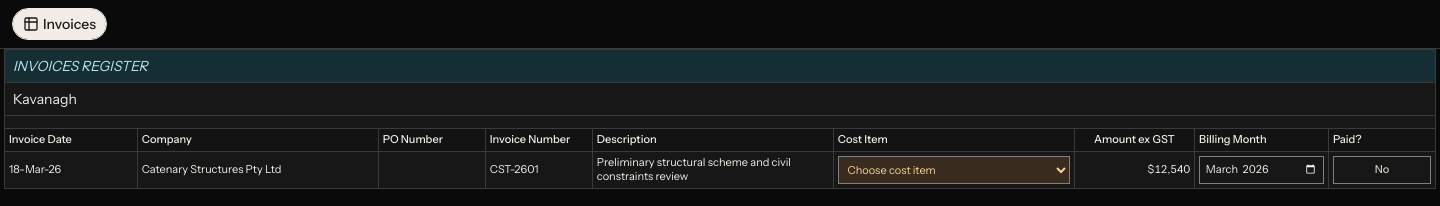
Test: WorkbookGrid invoice controls › lets the user override a suggested mapping to an existing TBC trade
The width and height of the screenshot is (1440, 206).
Select "6 · Structural engineer · TBC" in the dropdown named "cost item for invoice CST-2601": [954, 170] box [838,156,1070,184]
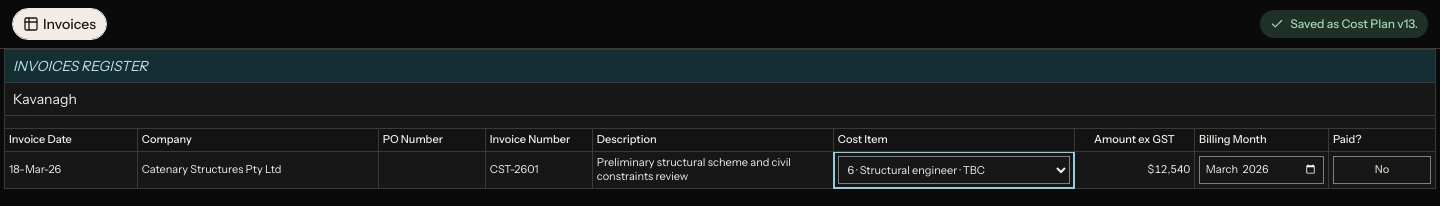
Now the text "Saved as Cost Plan v13." is shown, box [1260,10,1428,38]
